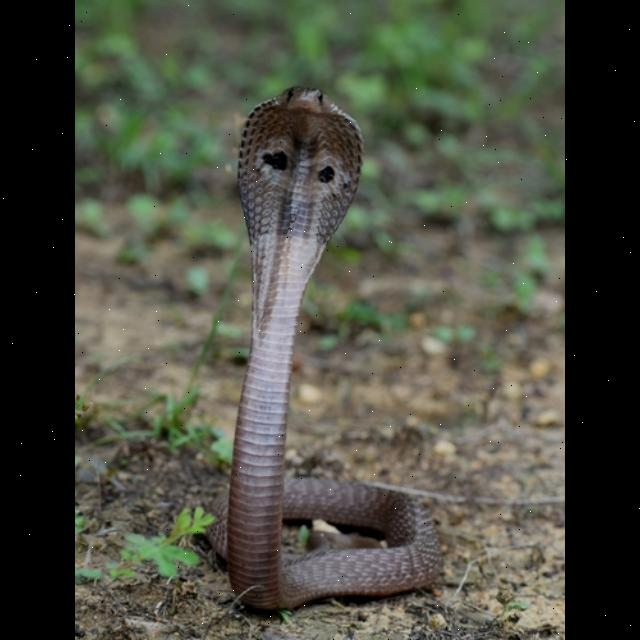snake: (196, 71, 450, 634)
